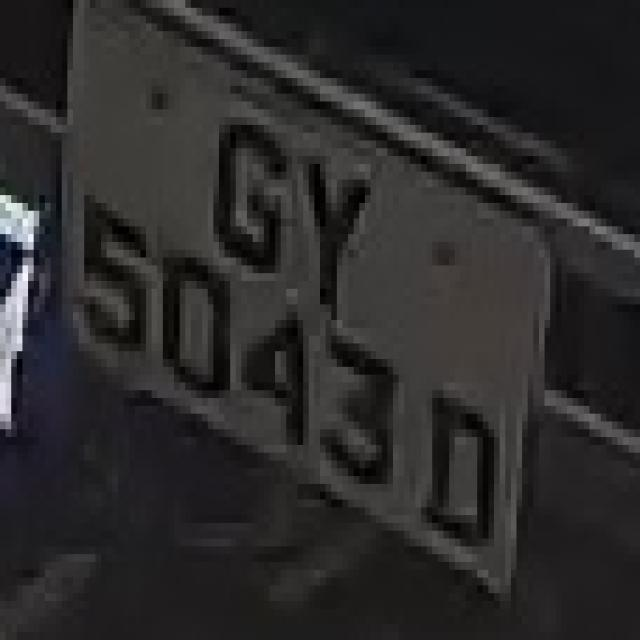0: (157, 219, 230, 429)
3: (320, 312, 404, 500)
4: (224, 266, 314, 460)
5: (67, 164, 152, 382)
D: (410, 367, 511, 562)
G: (202, 86, 286, 281)
Y: (280, 117, 382, 312)
